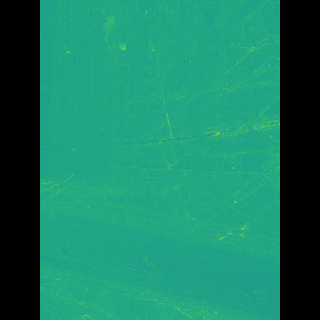Loch: (141, 0, 249, 320), (68, 174, 249, 320)
